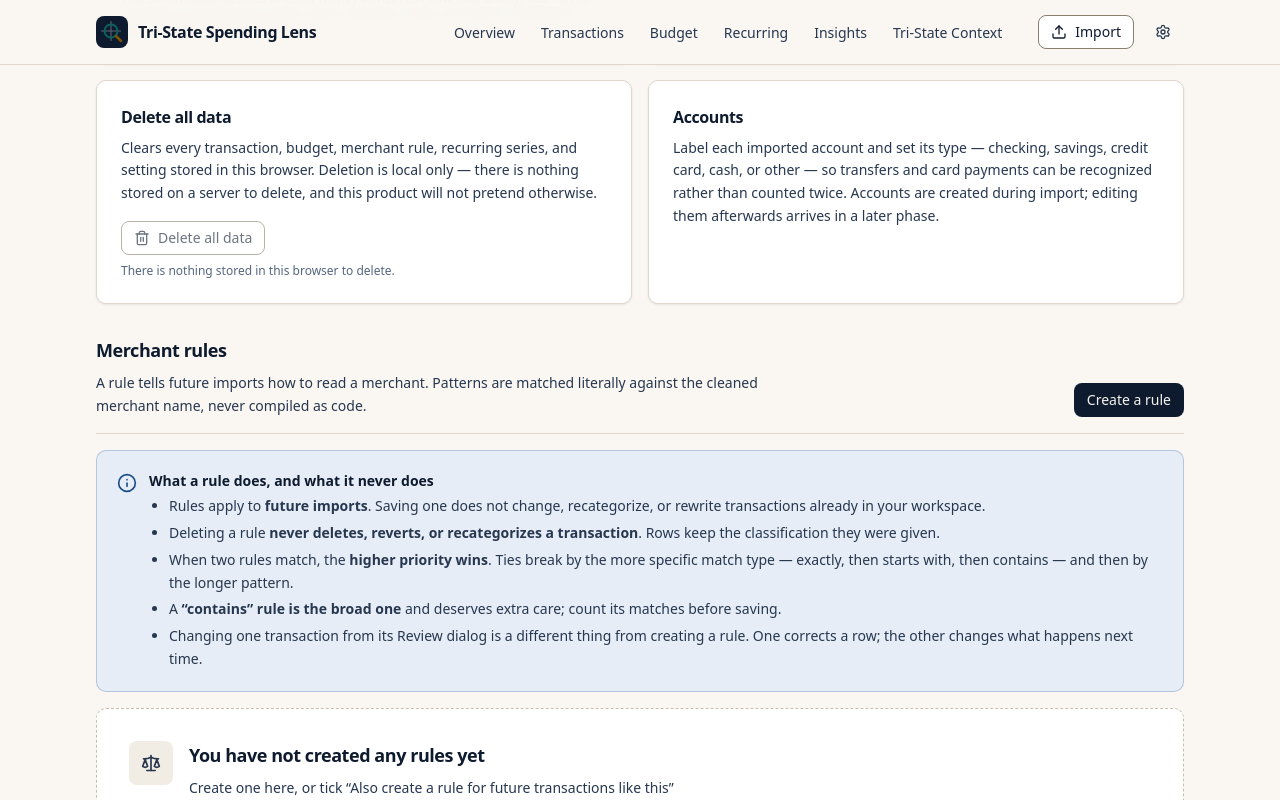
it: creating a rule › persists the rule and leaves existing transactions alone
(page scrolled)
Check: the heading "Merchant rules" is shown, box [96, 338, 226, 362]
Step 1. Click the button "Create a rule" → (1129, 400), box [1074, 383, 1184, 417]
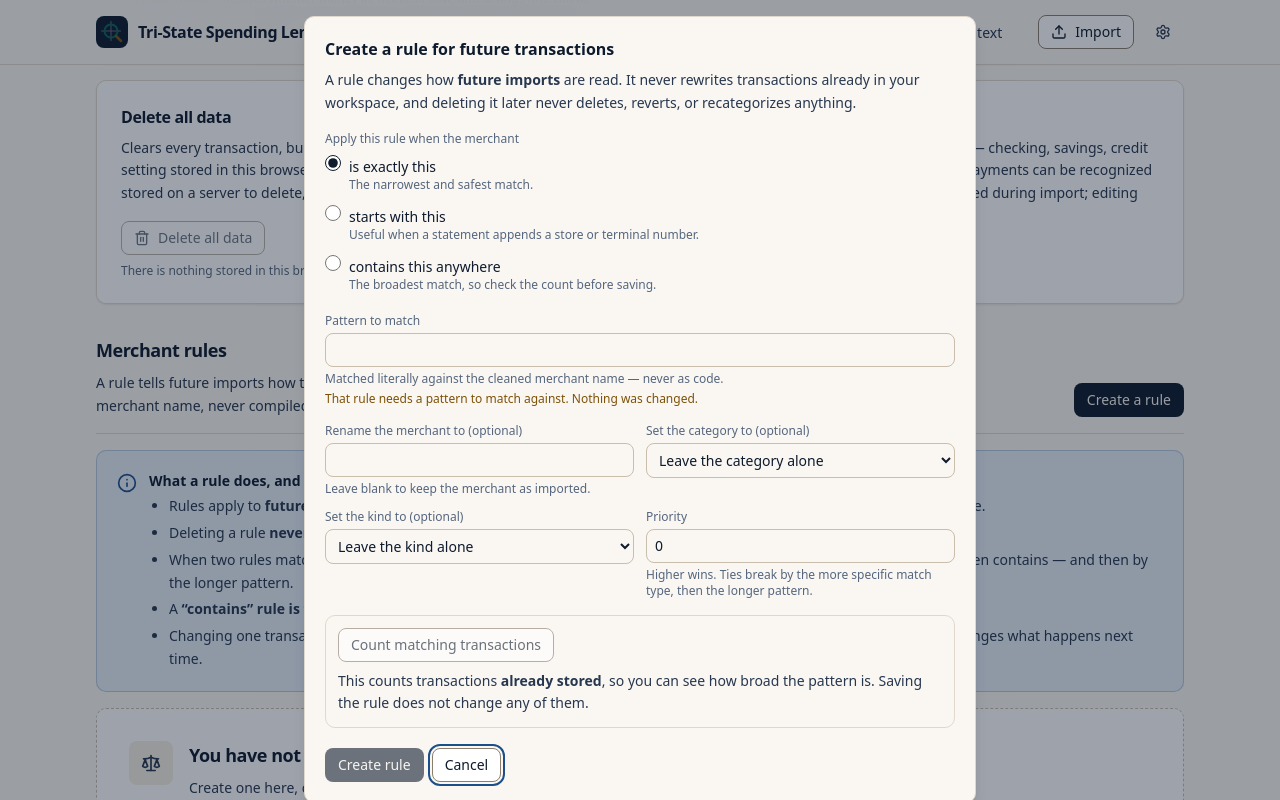
Step 2. Type "PINEBROOK MARKET" into the field labelled "Pattern to match" → (640, 350), box [325, 332, 955, 366]
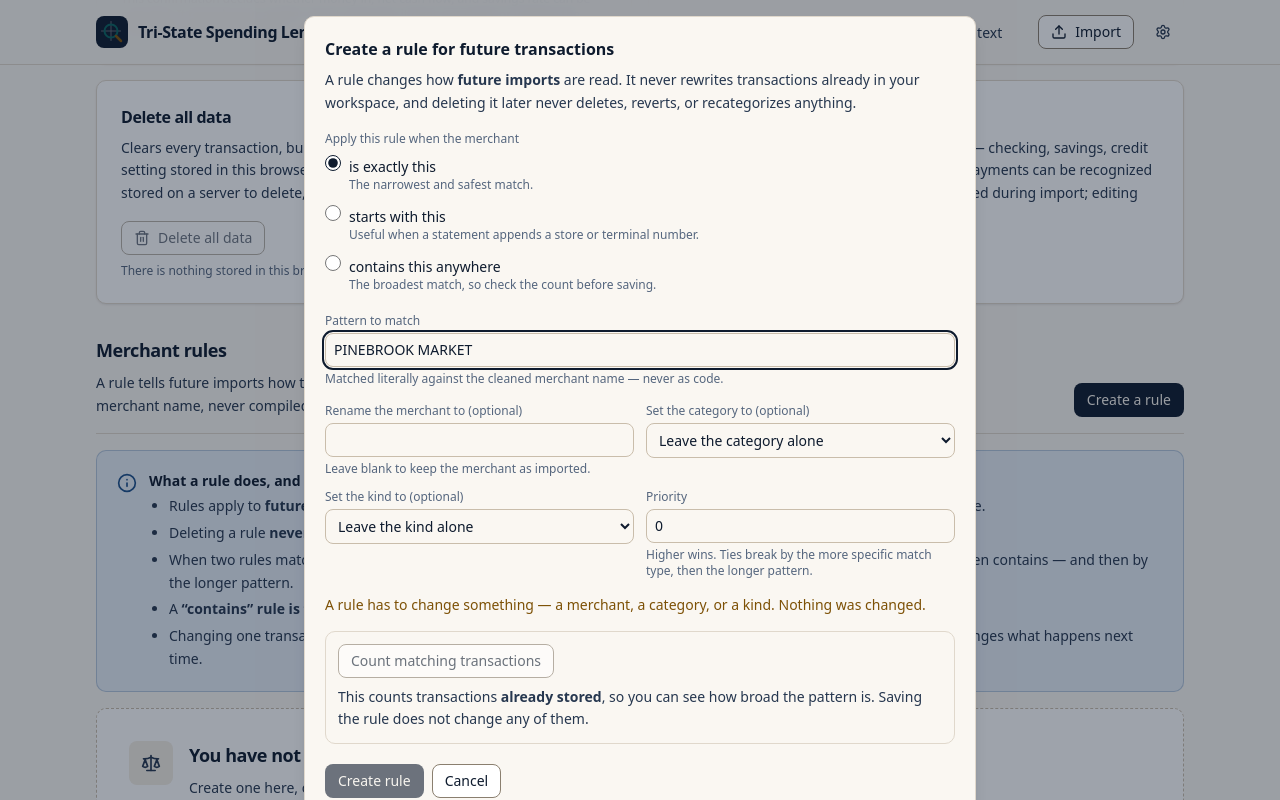
Step 3. Select "Groceries" in the dropdown labelled "Set the category to (optional)" → (800, 440), box [646, 422, 955, 458]
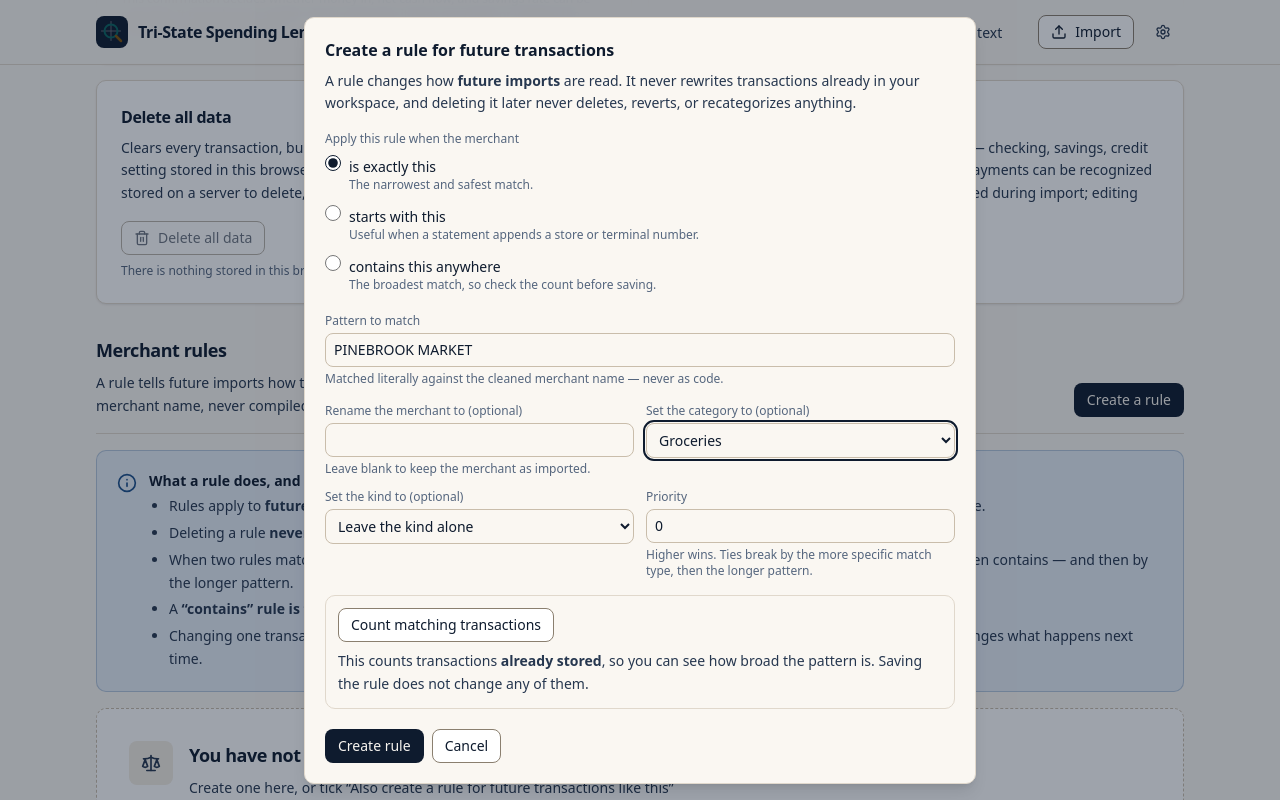
Step 4. Click the button "Create rule" → (374, 746), box [325, 728, 424, 762]
(page scrolled)
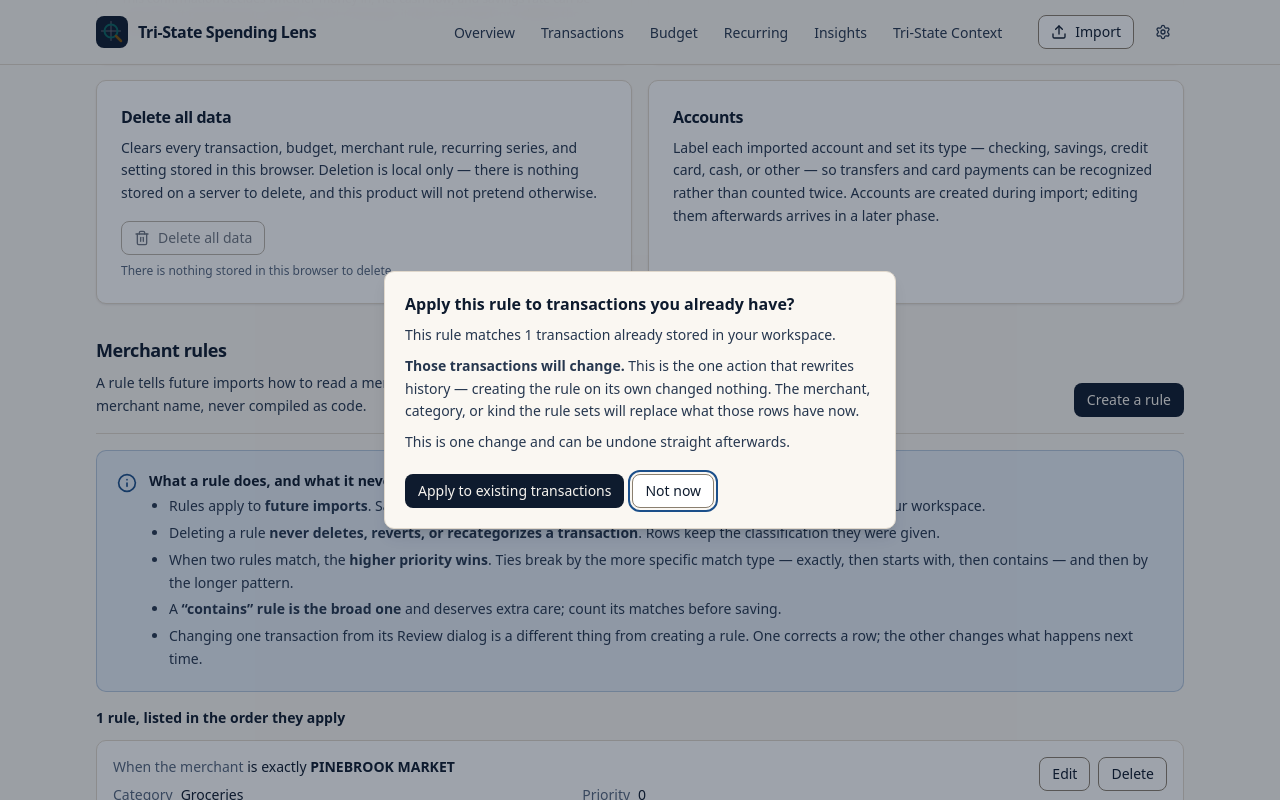
Check: the dialog shows "matches 1 transaction already stored", box [405, 325, 836, 344]
Step 5. Click the button "Not now" → (673, 491), box [632, 474, 714, 508]
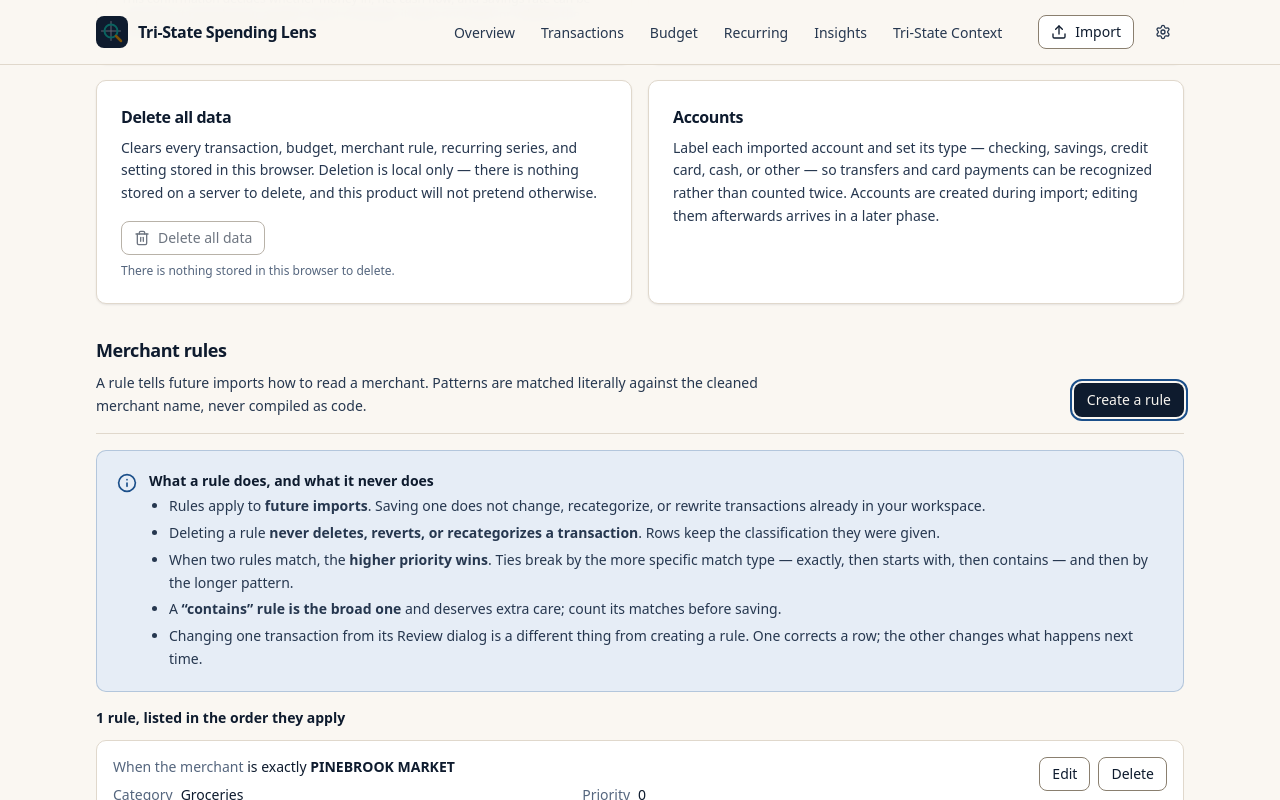
Check: the text "PINEBROOK MARKET" is shown, box [310, 756, 455, 776]
Check: the dialog is gone
